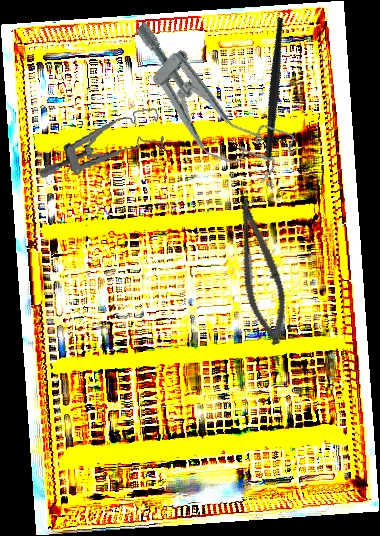Chopper: (211, 16, 342, 189)
Micro Scissor: (220, 194, 299, 349)
Speculum: (106, 10, 303, 197), (31, 107, 169, 180)
